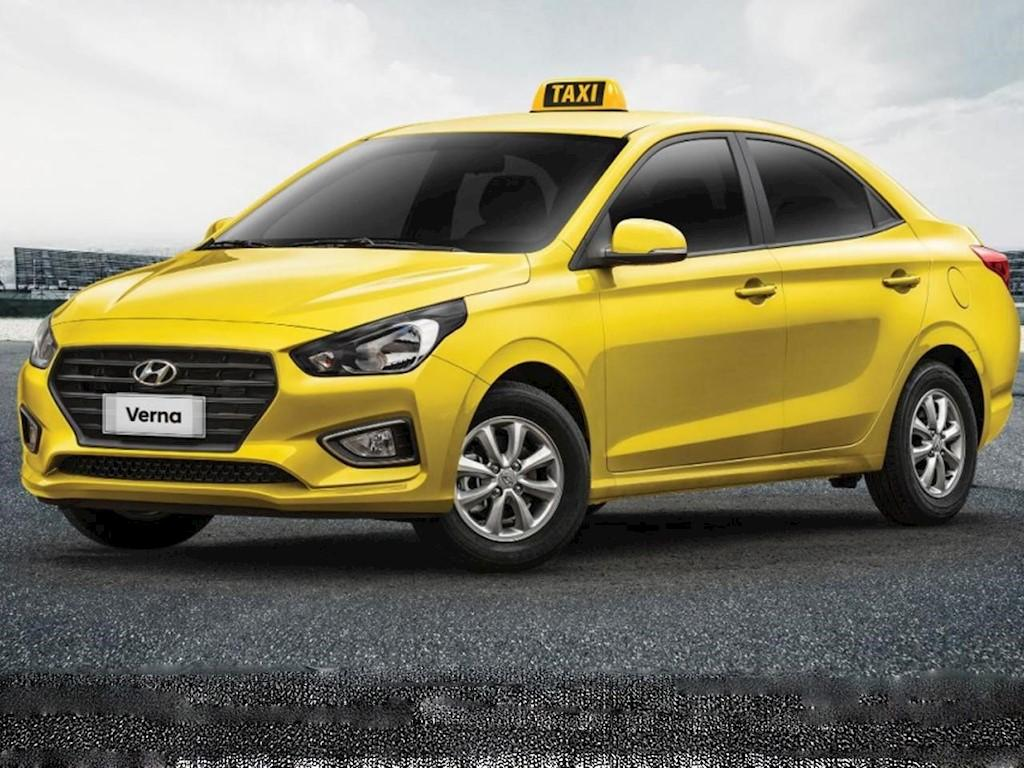taxi: (18, 80, 1024, 565)
